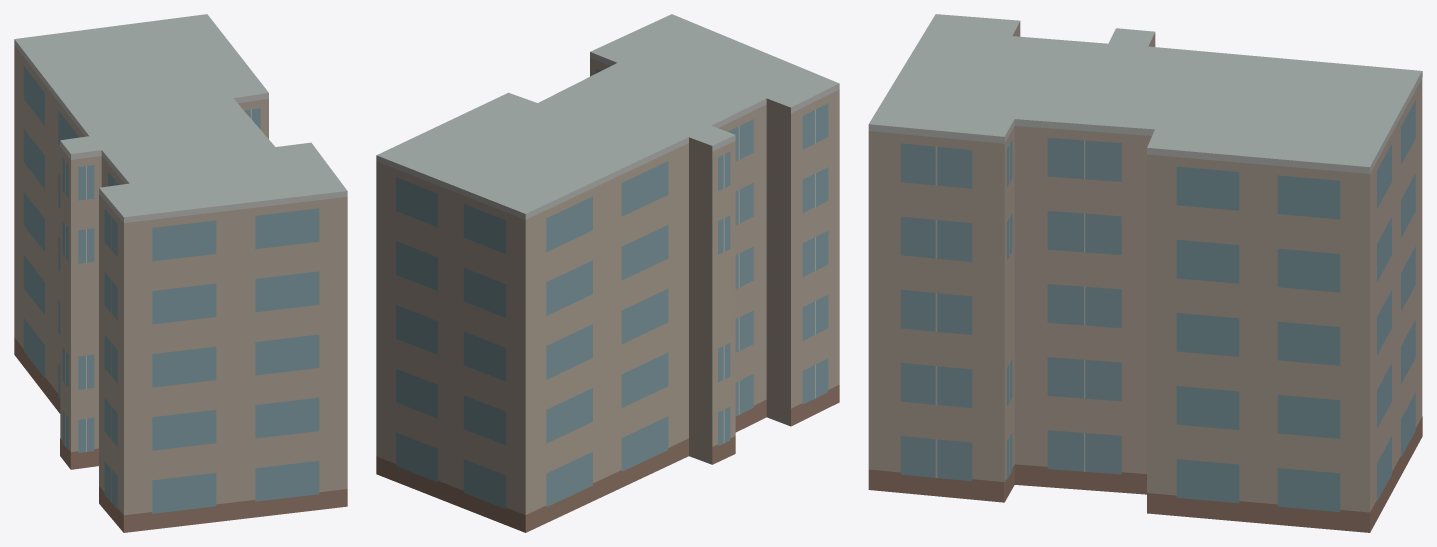
Rendered from survey-upis-32554753.glb.
The picture shows the model from 3 angles, left to right: view 1: azimuth 30°, elevation 25°; view 2: azimuth 150°, elevation 25°; view 3: azimuth 270°, elevation 25°; orthographic projection. The views are drawn at different scales.
Visible parts, largest first — view 1: survey-upis-32554753.tmp; view 2: survey-upis-32554753.tmp; view 3: survey-upis-32554753.tmp.
Boxes of the visible parts, x1,y1,x2,y2 form: survey-upis-32554753.tmp: (14,14,347,532); survey-upis-32554753.tmp: (376,14,839,532); survey-upis-32554753.tmp: (868,14,1422,532).
Bounding box in the file's own units: 11.87 × 13.2 × 18.13.
